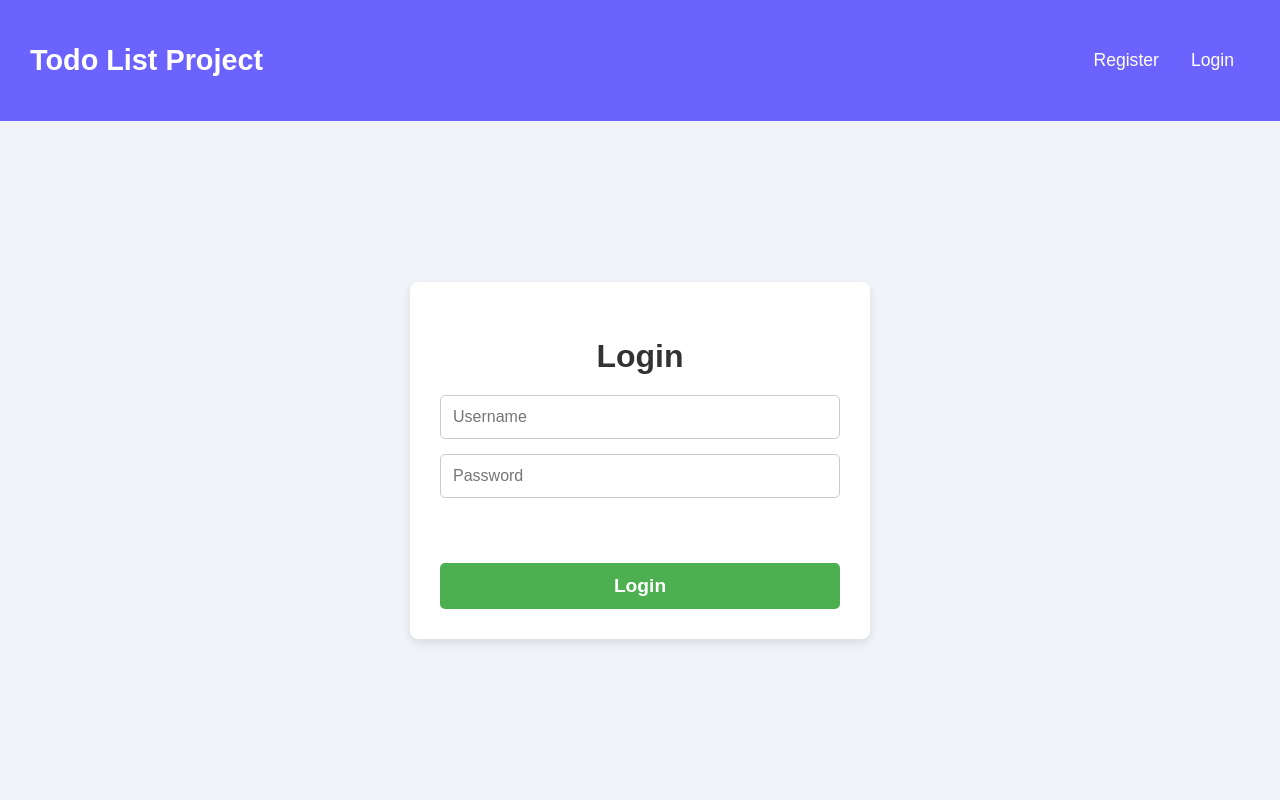
Scenario: App Routing & Authentication Tests › ✅ Failed login shows error messages
The image size is (1280, 800).
Type "wronguser" into the field with placeholder "Username" at (640, 417), box [440,395,840,439]
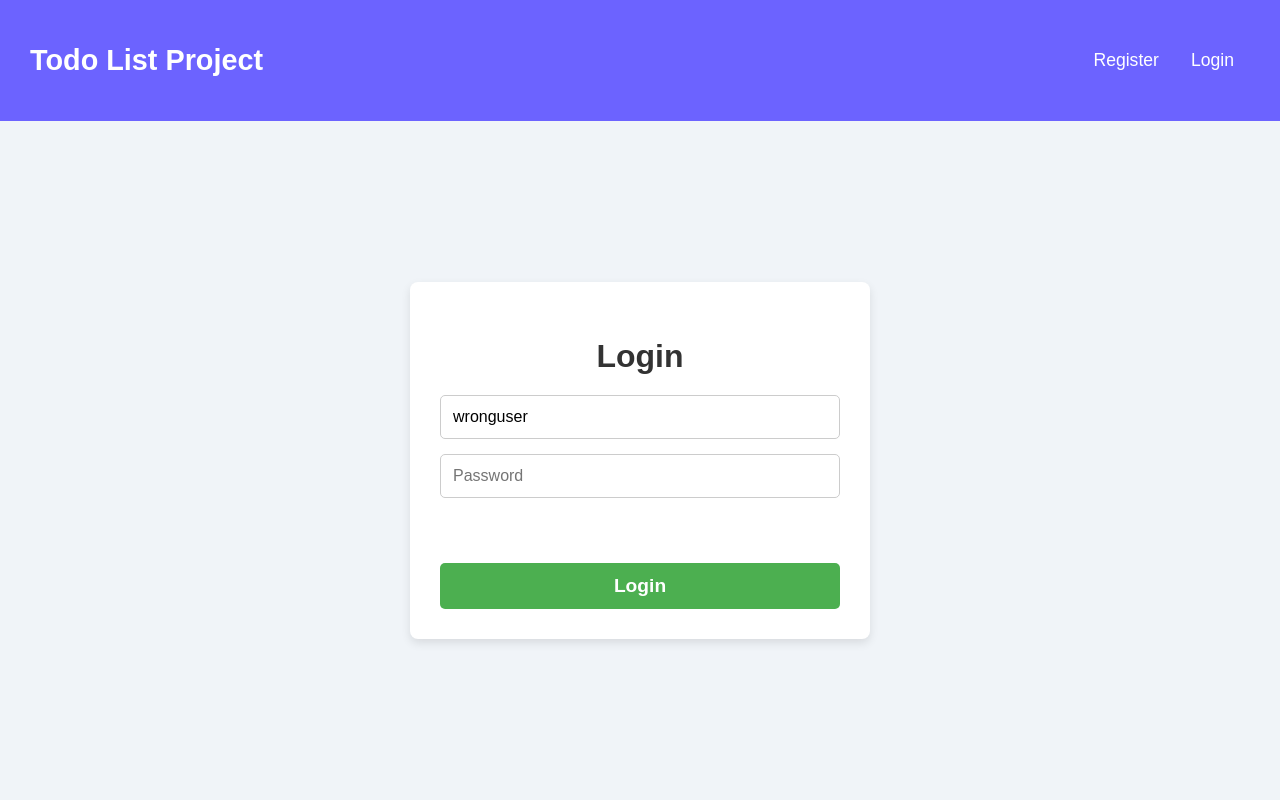
Type "wrongpass" into the password field with placeholder "Password" at (640, 476), box [440,454,840,498]
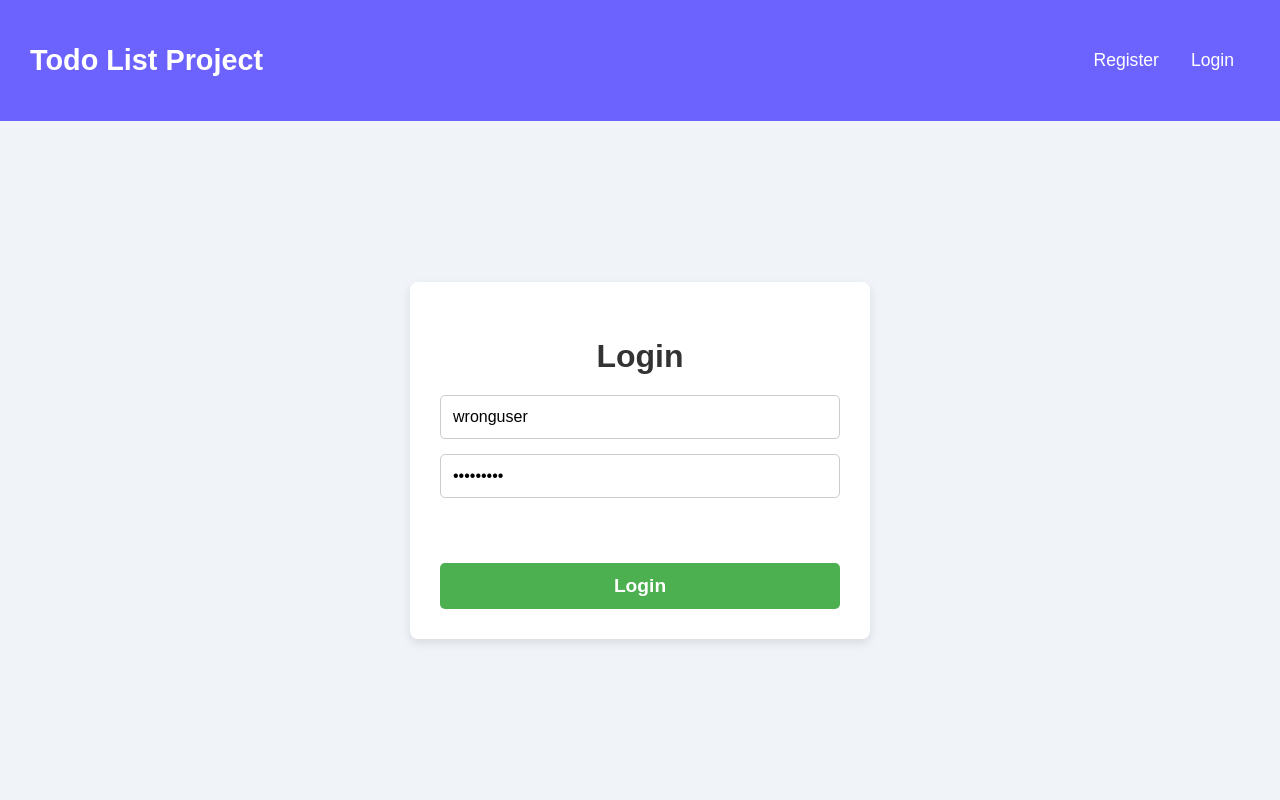
Click the button "Login" at (640, 586), box [440,563,840,609]
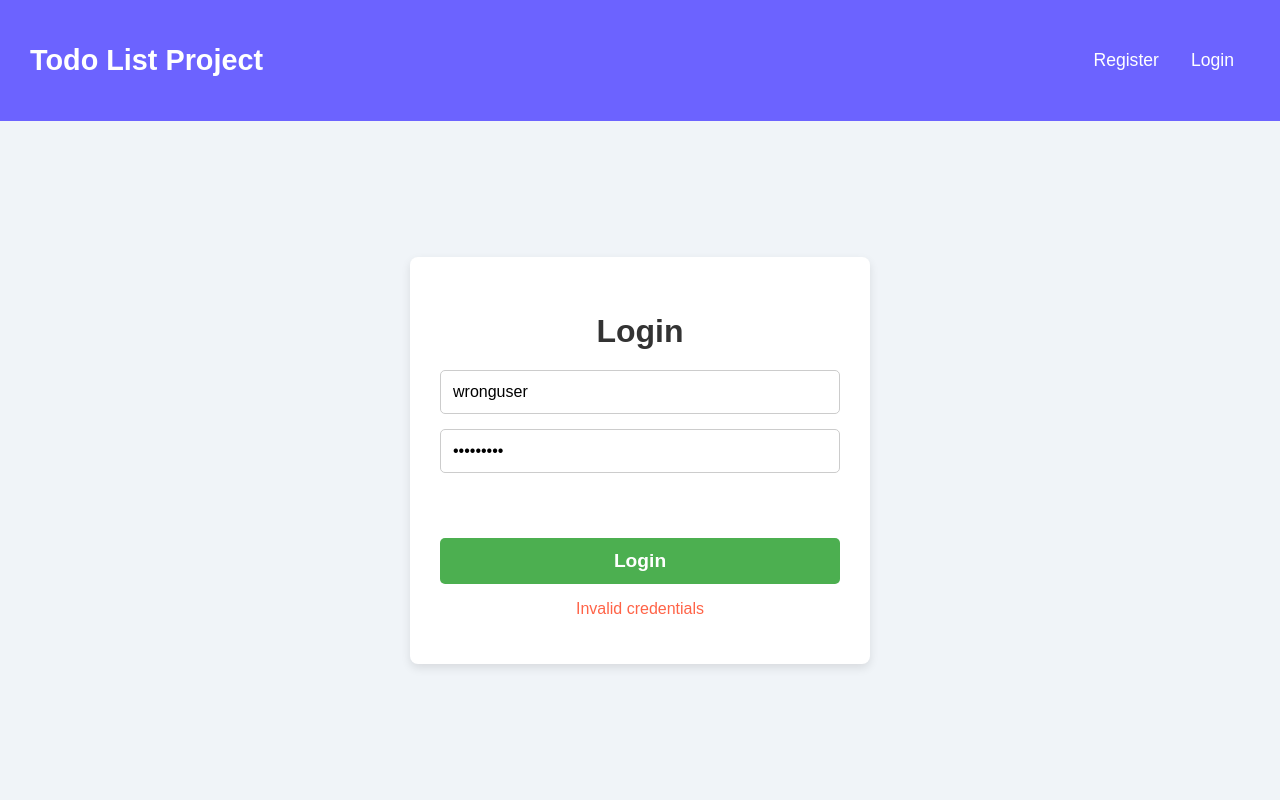
Expected: the text "Invalid credentials" is shown, [576,600,704,617]
